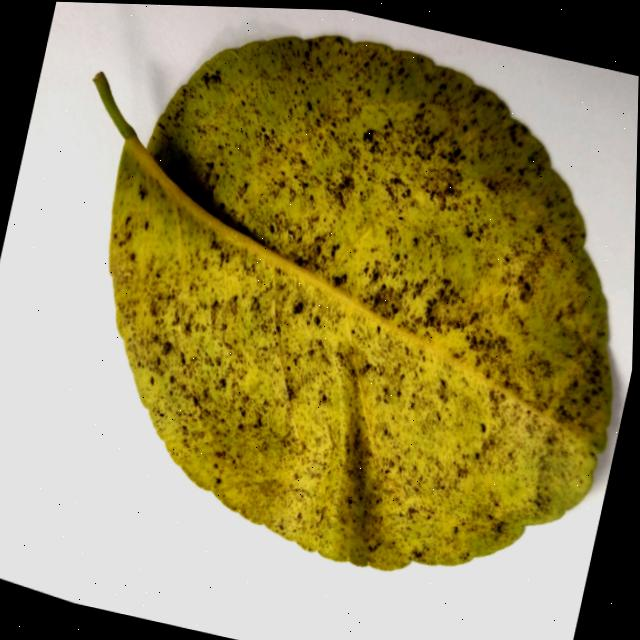melanose: (95, 36, 612, 570)
